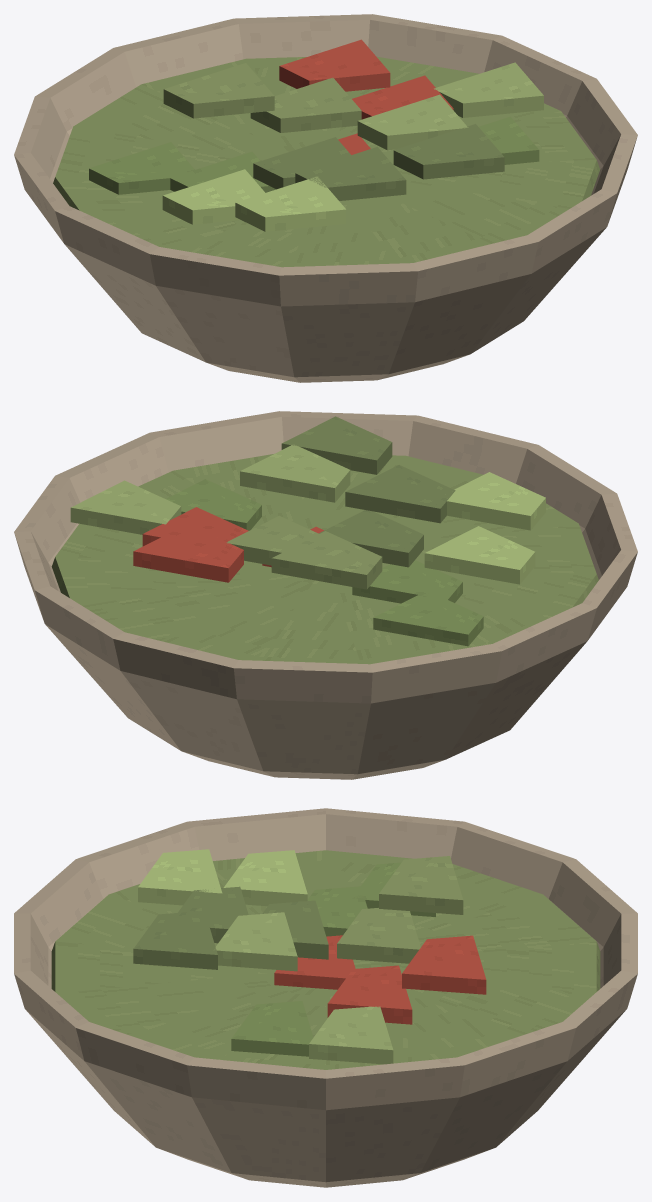
Rendered from insta_salad.glb.
3 renders of one model, top to bottom at view 1: azimuth 30°, elevation 25°; view 2: azimuth 150°, elevation 25°; view 3: azimuth 270°, elevation 25°, orthographic. The views are drawn at different scales.
Parts seen in each view (by area): view 1: block_earthenware bowl, block_meal in bowl, block_torn leafy slice (×14); view 2: block_earthenware bowl, block_torn leafy slice (×14), block_meal in bowl; view 3: block_earthenware bowl, block_meal in bowl, block_torn leafy slice (×15).
Boxes of the visible parts, x1=… form: block_earthenware bowl: x1=14, y1=14, x2=637, y2=382; block_meal in bowl: x1=53, y1=56, x2=600, y2=267; block_torn leafy slice (×14): x1=89, y1=39, x2=543, y2=231; block_earthenware bowl: x1=14, y1=411, x2=637, y2=779; block_torn leafy slice (×14): x1=70, y1=416, x2=545, y2=646; block_meal in bowl: x1=51, y1=454, x2=598, y2=664; block_earthenware bowl: x1=14, y1=808, x2=637, y2=1187; block_meal in bowl: x1=51, y1=850, x2=600, y2=1069; block_torn leafy slice (×15): x1=133, y1=849, x2=486, y2=1064.
Bounding box in the file's own units: 0.1203 × 0.0428 × 0.1173.
1 material, 1 textured.
